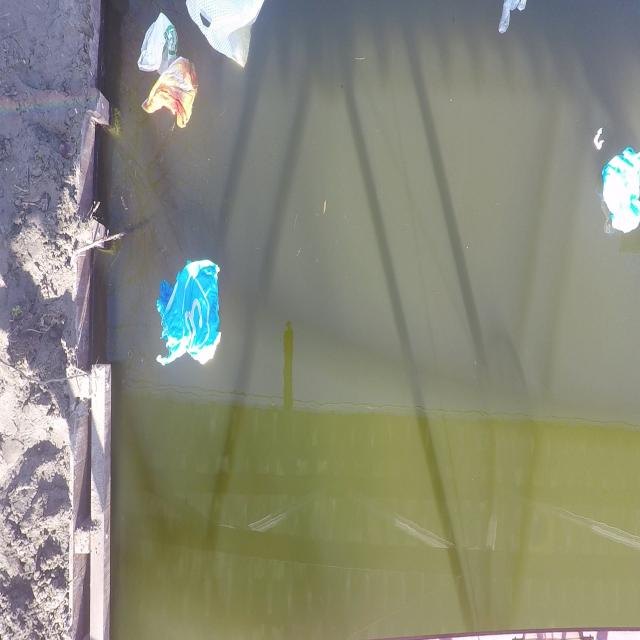Sac plastique: (148, 249, 229, 368), (180, 0, 269, 70), (599, 136, 640, 246), (141, 62, 202, 132), (134, 10, 178, 77), (492, 0, 532, 39)
